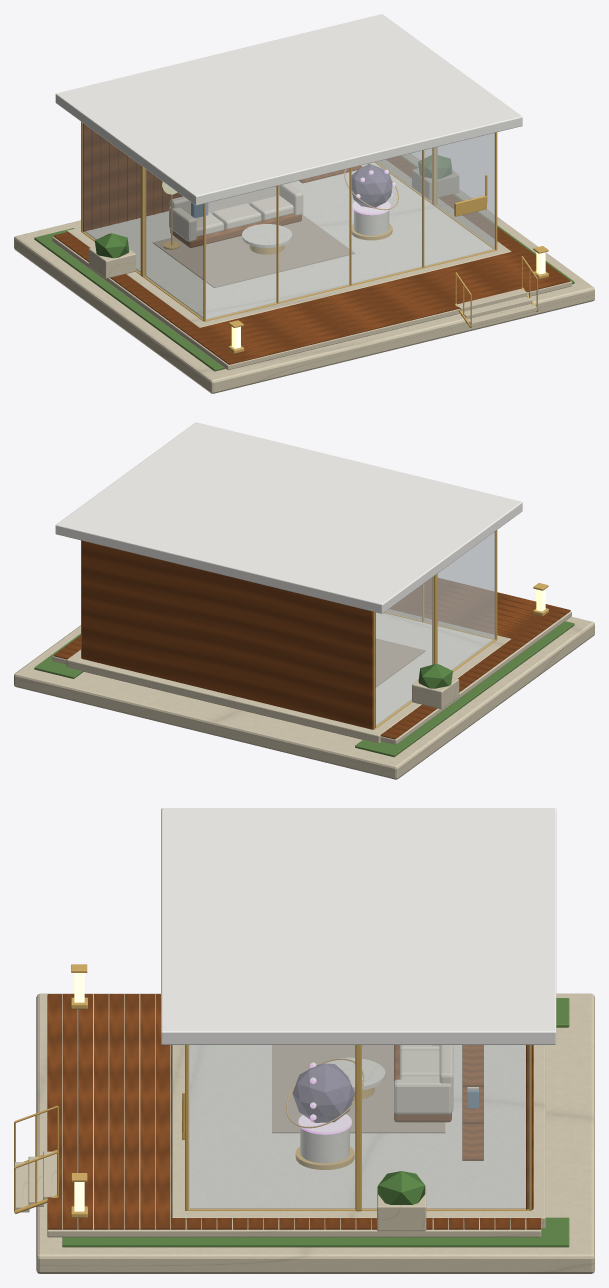
Rendered from House1.glb.
3 renders of one model, top to bottom at view 1: azimuth 30°, elevation 25°; view 2: azimuth 150°, elevation 25°; view 3: azimuth 270°, elevation 25°, orthographic. The views are drawn at different scales.
Visible parts, largest first — view 1: House1, Base; view 2: House1, Base; view 3: House1, Base.
Part boxes in pixels (x1=…): House1: x1=34, y1=14, x2=574, y2=371; Base: x1=14, y1=153, x2=594, y2=393; House1: x1=34, y1=422, x2=574, y2=757; Base: x1=14, y1=616, x2=594, y2=779; House1: x1=14, y1=808, x2=569, y2=1247; Base: x1=36, y1=993, x2=594, y2=1273.
Bounding box in the file's own units: 29 × 11.5 × 27.05.
Materials: 14 (3 with a texture image).
